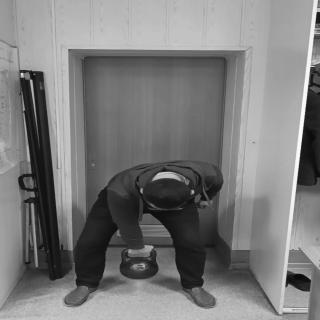girya: (121, 250, 160, 281)
